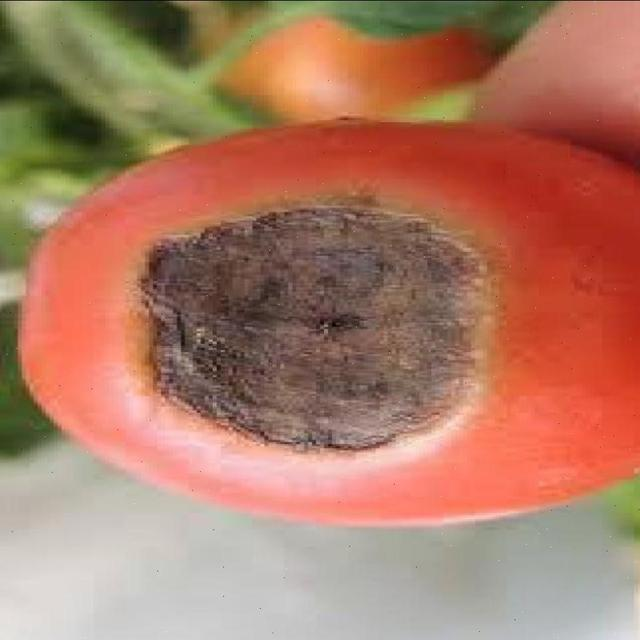Blossom End Rot Fruit: (84, 130, 327, 302)
